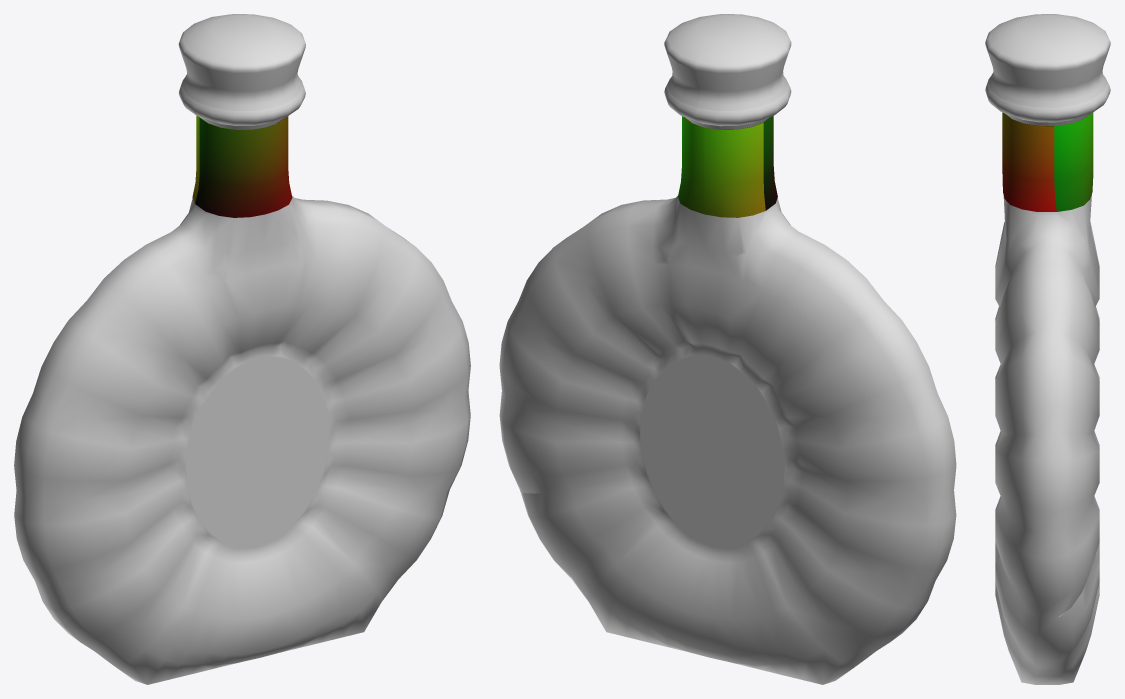
File: Remy Martin 人頭馬XO.FBX
3 views of the same model, side by side, from view 1: azimuth 30°, elevation 25°; view 2: azimuth 150°, elevation 25°; view 3: azimuth 270°, elevation 25° (orthographic). The views are drawn at different scales.
Parts seen in each view (by area): view 1: Cylinder033; view 2: Cylinder033; view 3: Cylinder033.
Part boxes in pixels (box(x1,y1,x2,y2)): Cylinder033: box(14, 14, 470, 684); Cylinder033: box(499, 14, 956, 684); Cylinder033: box(985, 14, 1110, 684).
Size of the model in its own units: 13.84 by 18.43 by 3.48.
